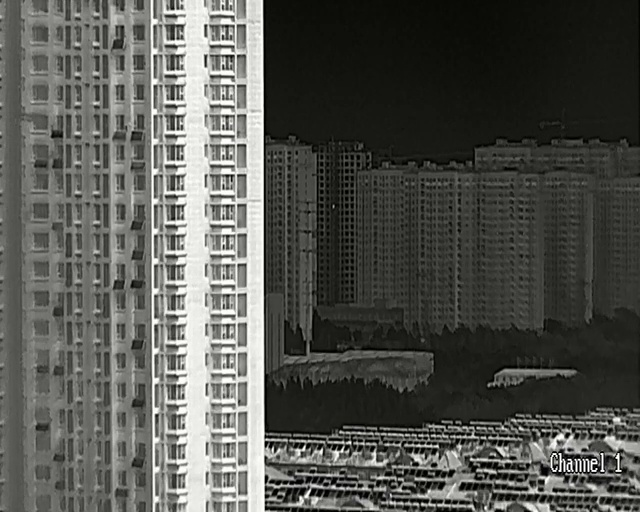uav: (8, 111, 30, 122)
